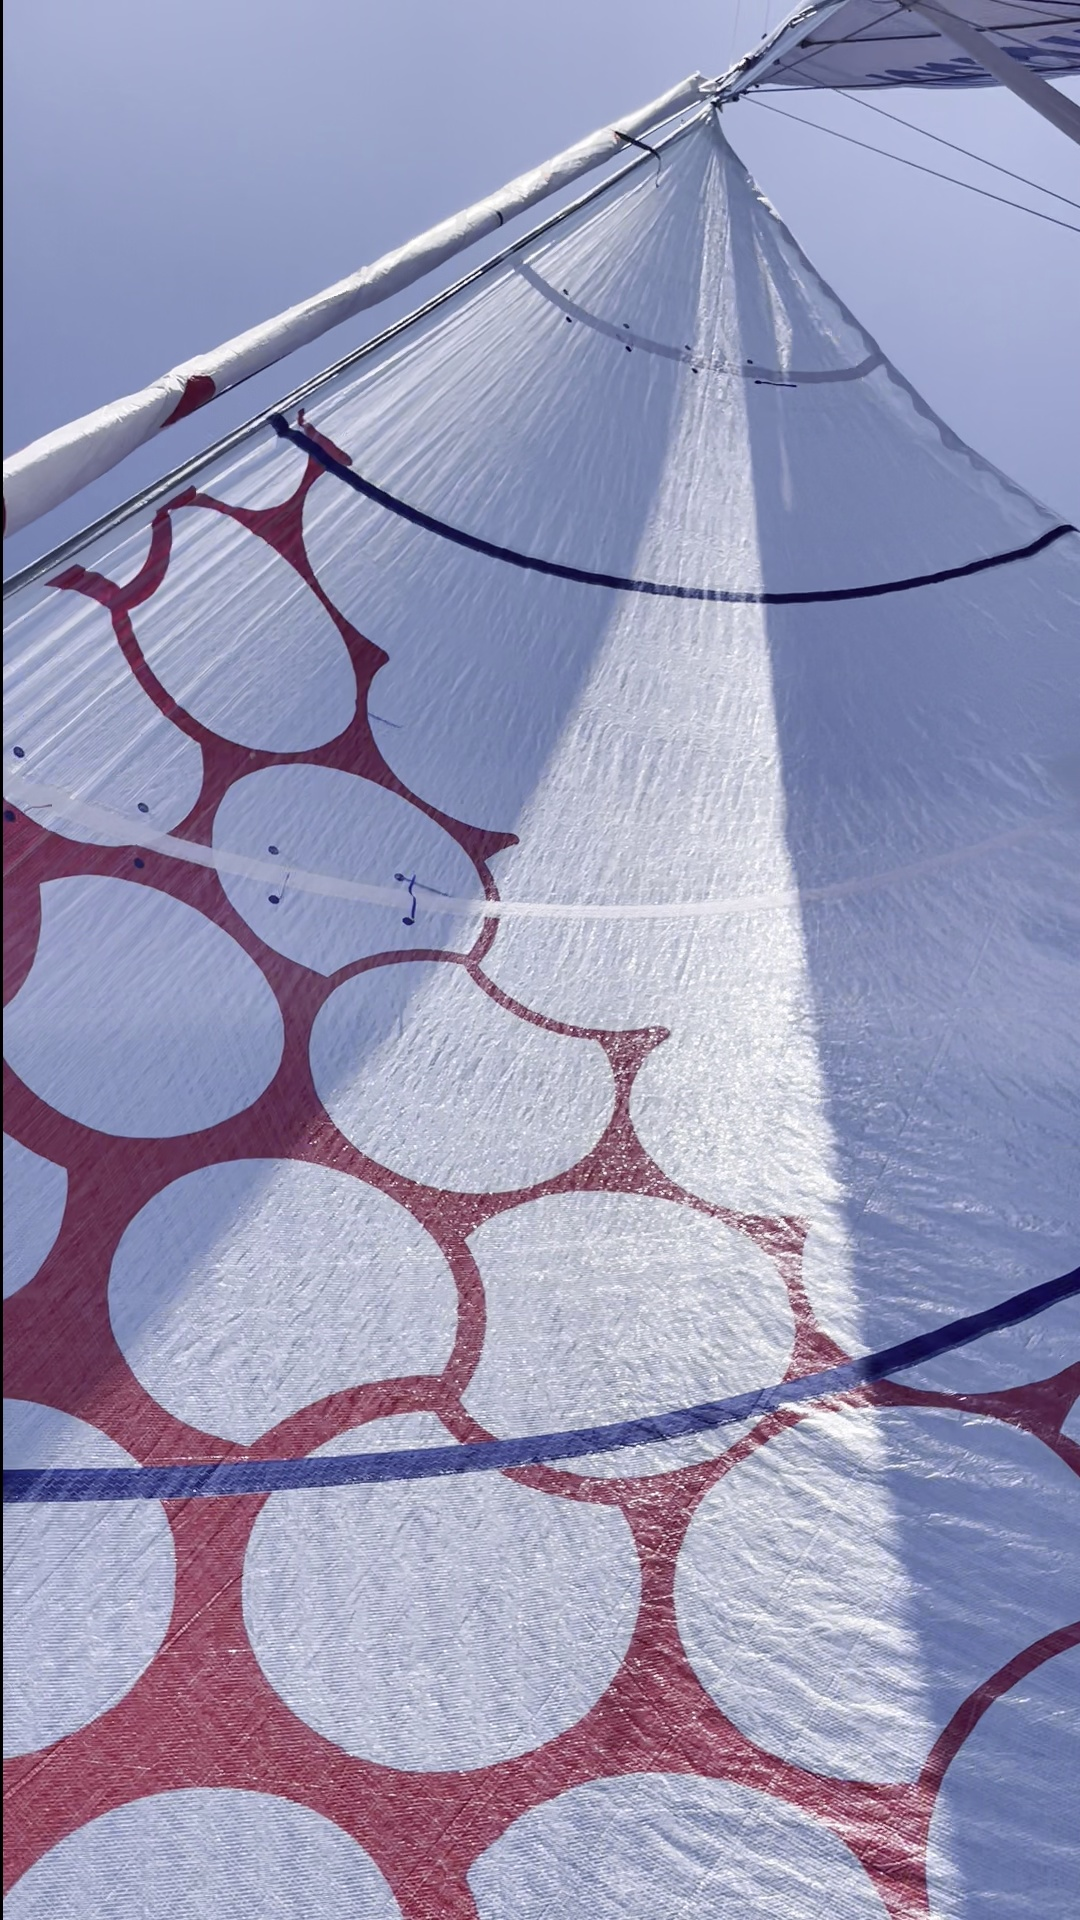pennon_attached: (389, 862, 464, 915), (347, 691, 418, 744), (754, 378, 807, 401)
pennon_detached: (394, 855, 425, 935), (257, 870, 298, 915), (0, 795, 57, 822)
